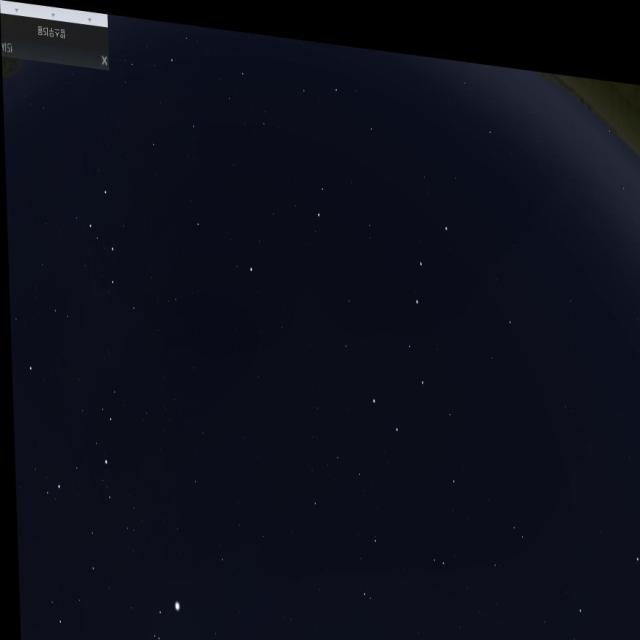cassiopeia: (74, 162, 158, 330)
ursa_major: (364, 166, 463, 442)
